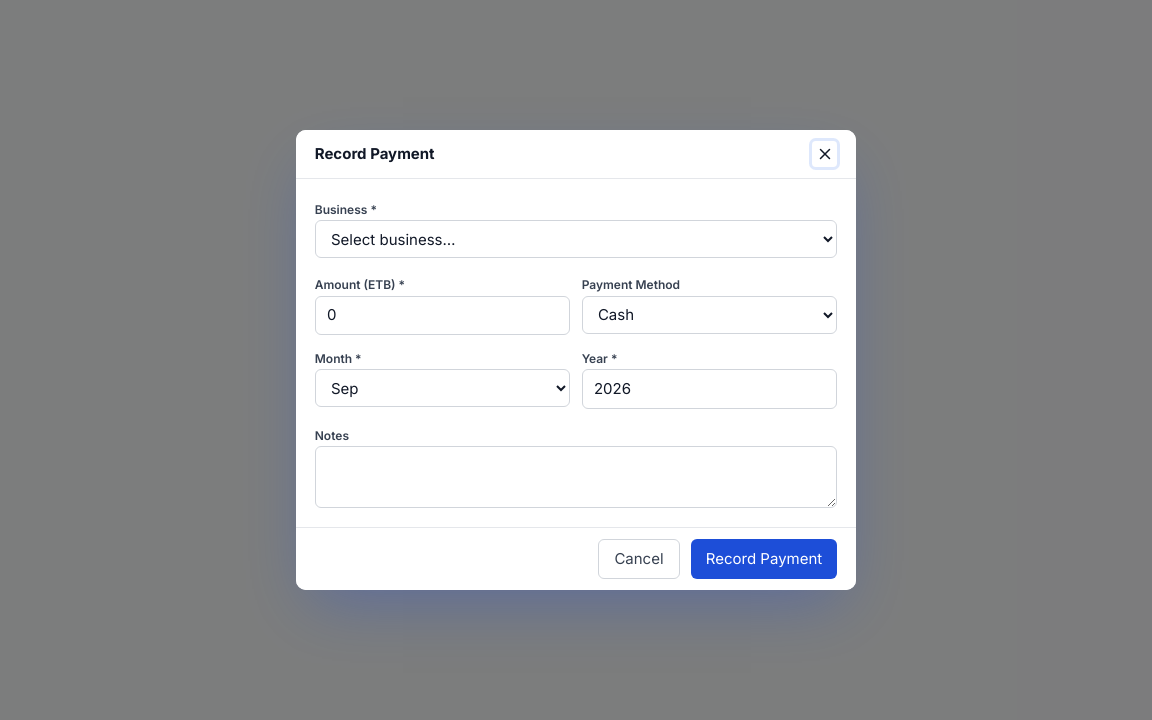
Scenario: Payment form validation (real component) › validates amount: rejects non-positive
The image size is (1152, 720).
Check: the dropdown labelled "Business *" is shown, box [315,220,837,258]
// Try submitting without business and amount
Click the button "Record Payment": (764, 559) [691,539,837,579]
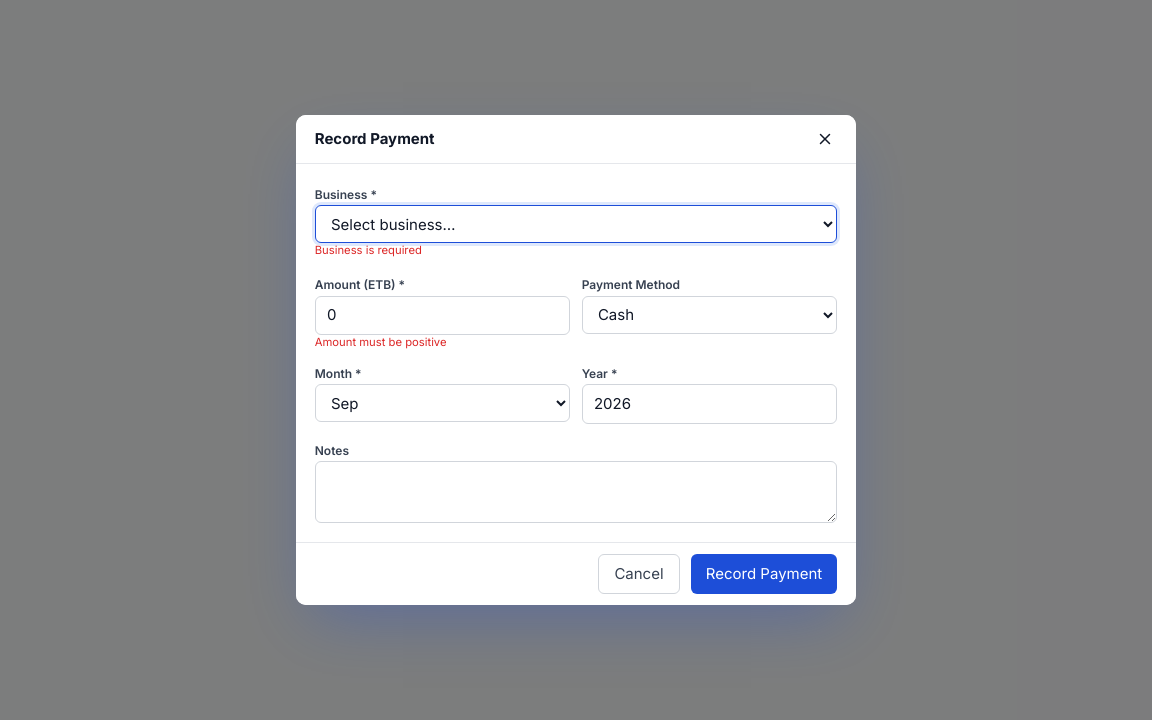
Check: the message "Business is required" is shown, box [315,243,422,257]
